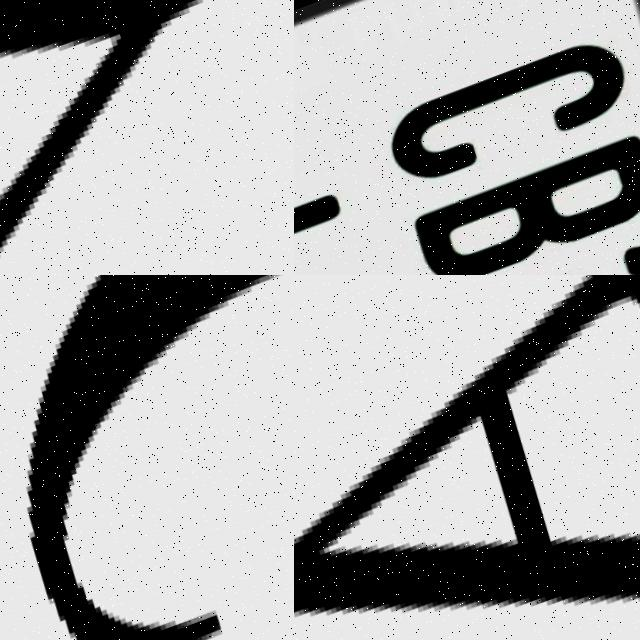9: (435, 228, 640, 275)
A: (294, 275, 640, 640)
B: (409, 130, 640, 275)
C: (34, 275, 291, 640), (378, 30, 640, 193)
Y: (0, 0, 294, 275)
